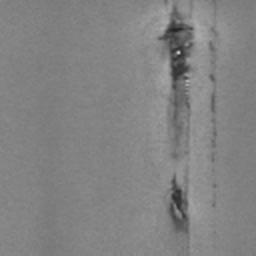Slag inclusion: (156, 3, 195, 132), (170, 174, 189, 228), (209, 72, 216, 114)
